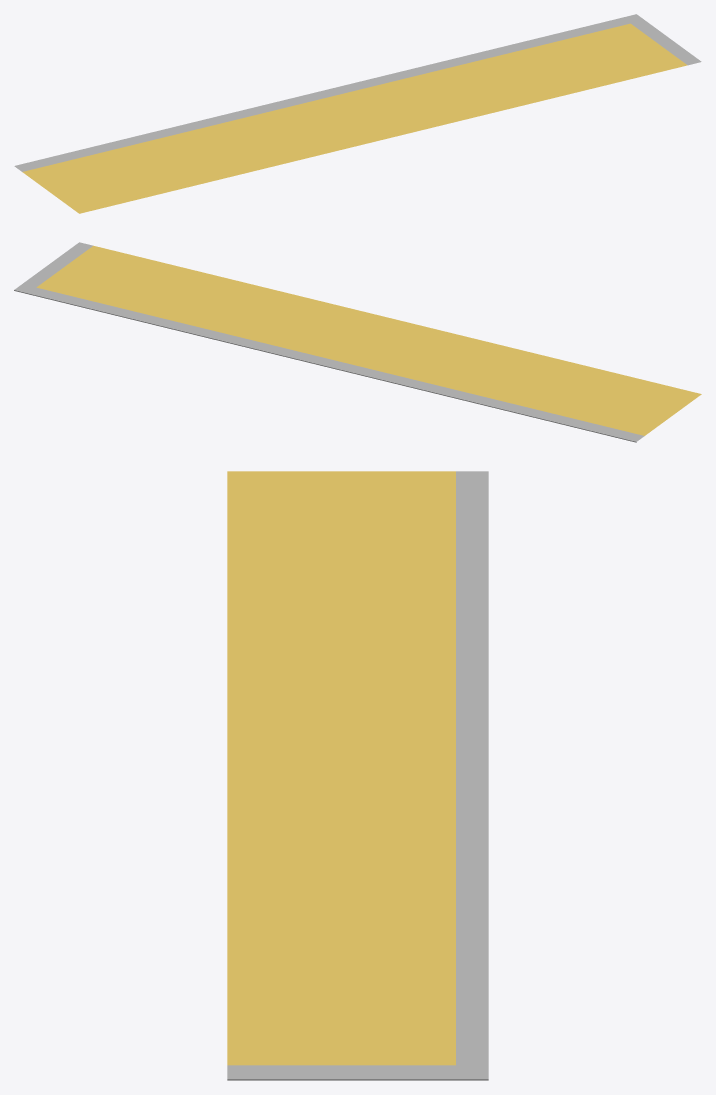
The model's file is paseo.glb.
The picture shows the model from 3 angles, top to bottom: view 1: azimuth 30°, elevation 25°; view 2: azimuth 150°, elevation 25°; view 3: azimuth 270°, elevation 25°; orthographic projection. The views are drawn at different scales.
Visible parts, largest first — view 1: Plane; view 2: Plane; view 3: Plane.
Boxes of the visible parts, x1,y1,x2,y2 form: Plane: (14, 14, 701, 213); Plane: (14, 242, 701, 442); Plane: (227, 471, 488, 1080).
Size of what is drawn, in the model's own units: 88 by 0.1 by 16.
